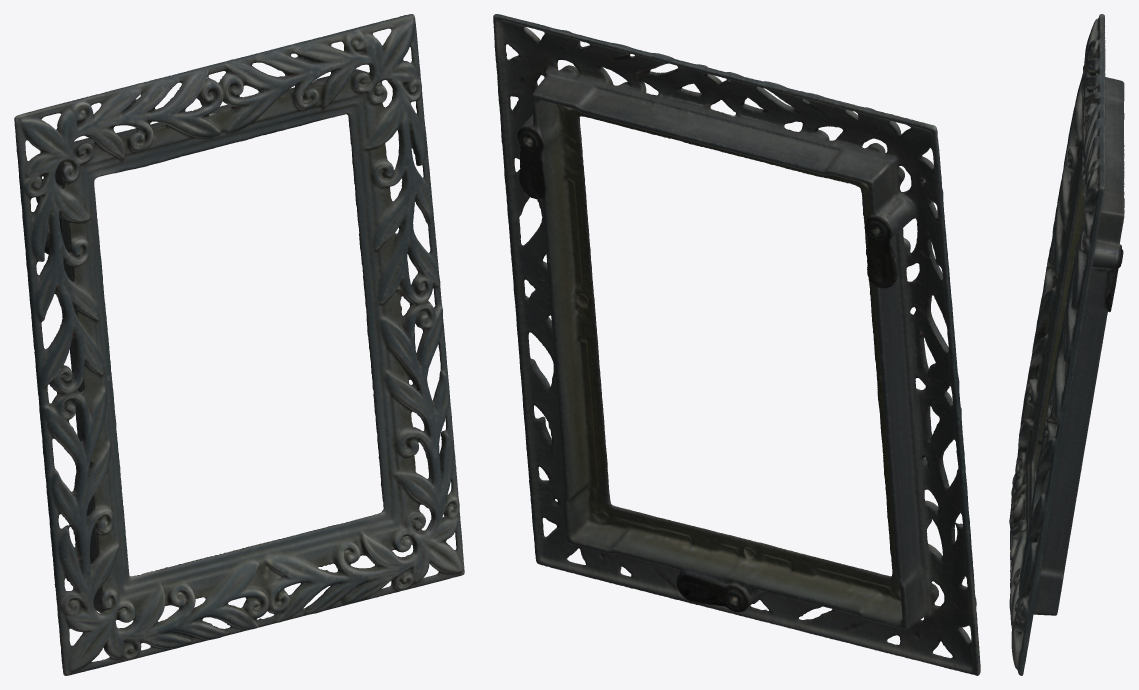
Rendered from floral_picture_frame.glb.
The picture shows the model from 3 angles, left to right: view 1: azimuth 30°, elevation 25°; view 2: azimuth 150°, elevation 25°; view 3: azimuth 270°, elevation 25°; orthographic projection. The views are drawn at different scales.
Visible parts, largest first — view 1: Object_4, Object_5, Object_2, Object_6, Object_3; view 2: Object_3, Object_2, Object_5, Object_4, Object_6; view 3: Object_4, Object_5, Object_3, Object_2, Object_6.
Part boxes in pixels (x1=…): Object_4: x1=36, y1=18, x2=456, y2=654; Object_5: x1=14, y1=14, x2=464, y2=674; Object_2: x1=21, y1=35, x2=464, y2=650; Object_6: x1=14, y1=27, x2=459, y2=675; Object_3: x1=42, y1=81, x2=432, y2=509; Object_3: x1=515, y1=82, x2=952, y2=624; Object_2: x1=497, y1=27, x2=974, y2=664; Object_5: x1=493, y1=14, x2=977, y2=672; Object_4: x1=505, y1=17, x2=977, y2=650; Object_6: x1=493, y1=16, x2=980, y2=675; Object_4: x1=1009, y1=59, x2=1124, y2=652; Object_5: x1=1010, y1=15, x2=1123, y2=675; Object_3: x1=1034, y1=81, x2=1124, y2=599; Object_2: x1=1009, y1=47, x2=1124, y2=673; Object_6: x1=1010, y1=14, x2=1124, y2=633.
Size of the model in its own units: 90.78 by 114 by 24.31.
1 material, 1 textured.
